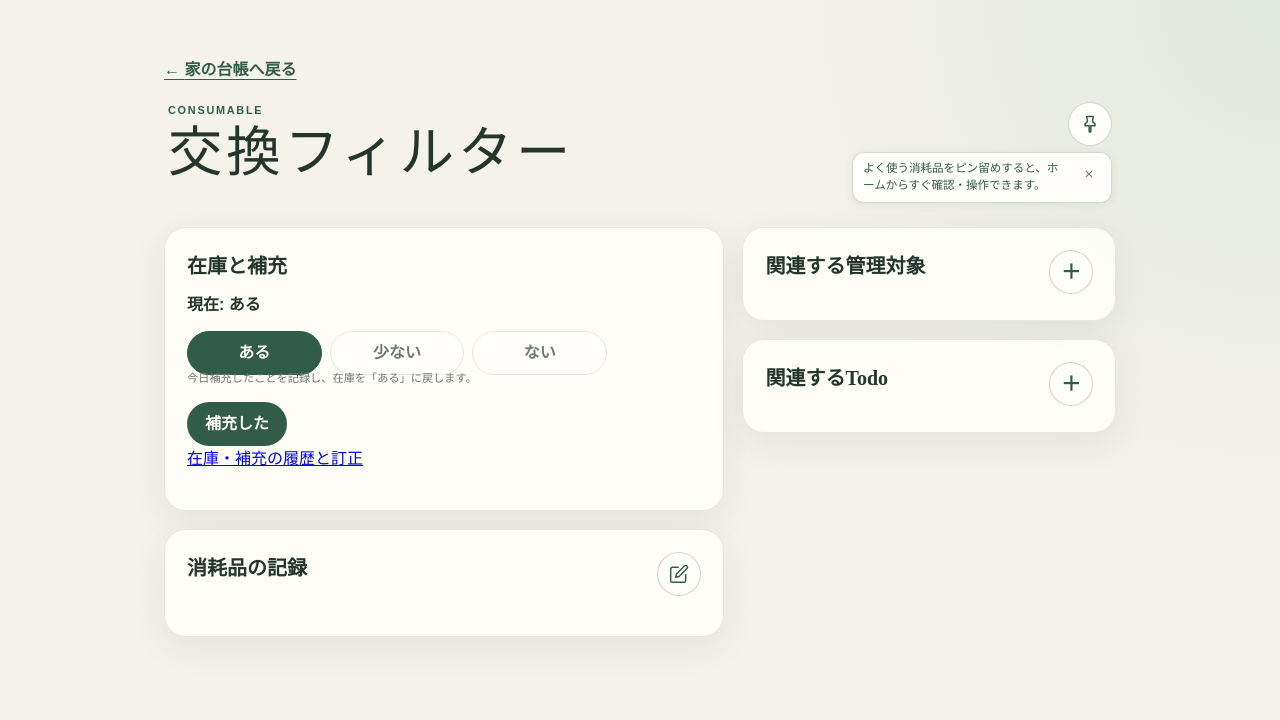
Test: 消耗品詳細の関連編集 (Issue #311) › キーボードで追加ダイアログを開閉し、閉じたら＋へ焦点を戻す
This screenshot has width=1280, height=720.
Click the button named "Todoを追加" at (1071, 384), box [1049,362,1093,406]
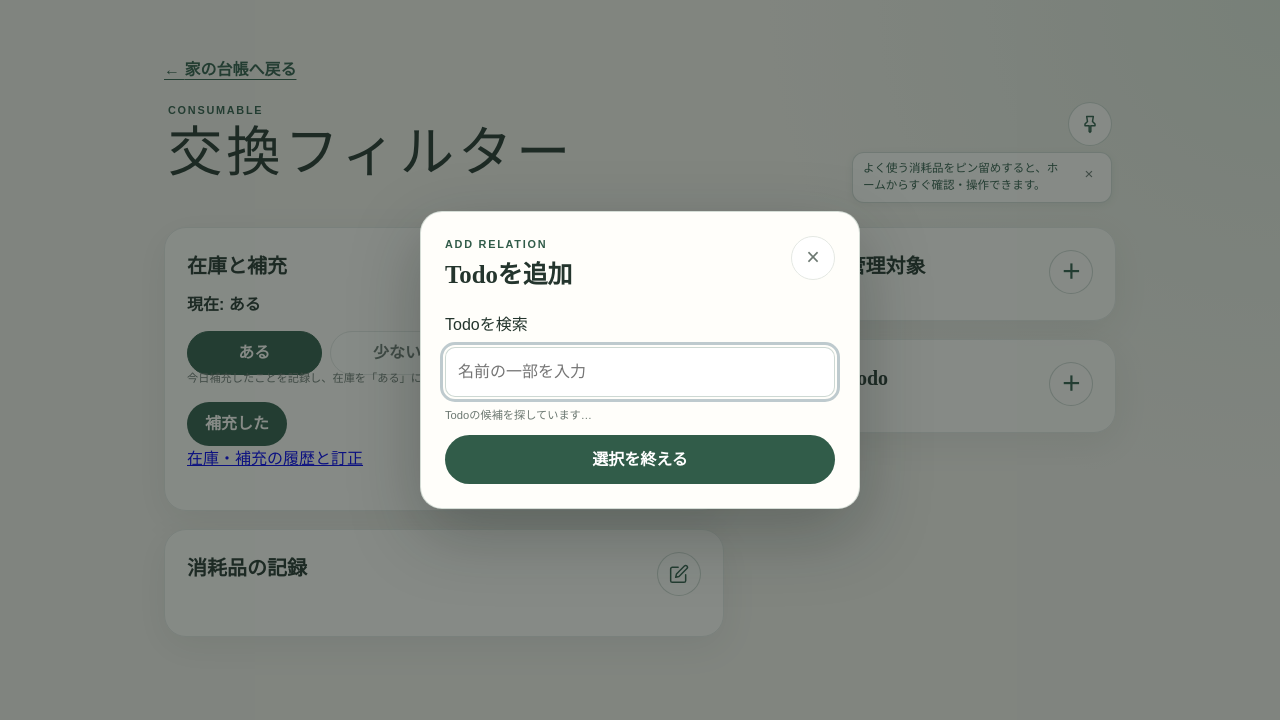
Press Escape in the dialog "Todoを追加", box [420,211,860,509]
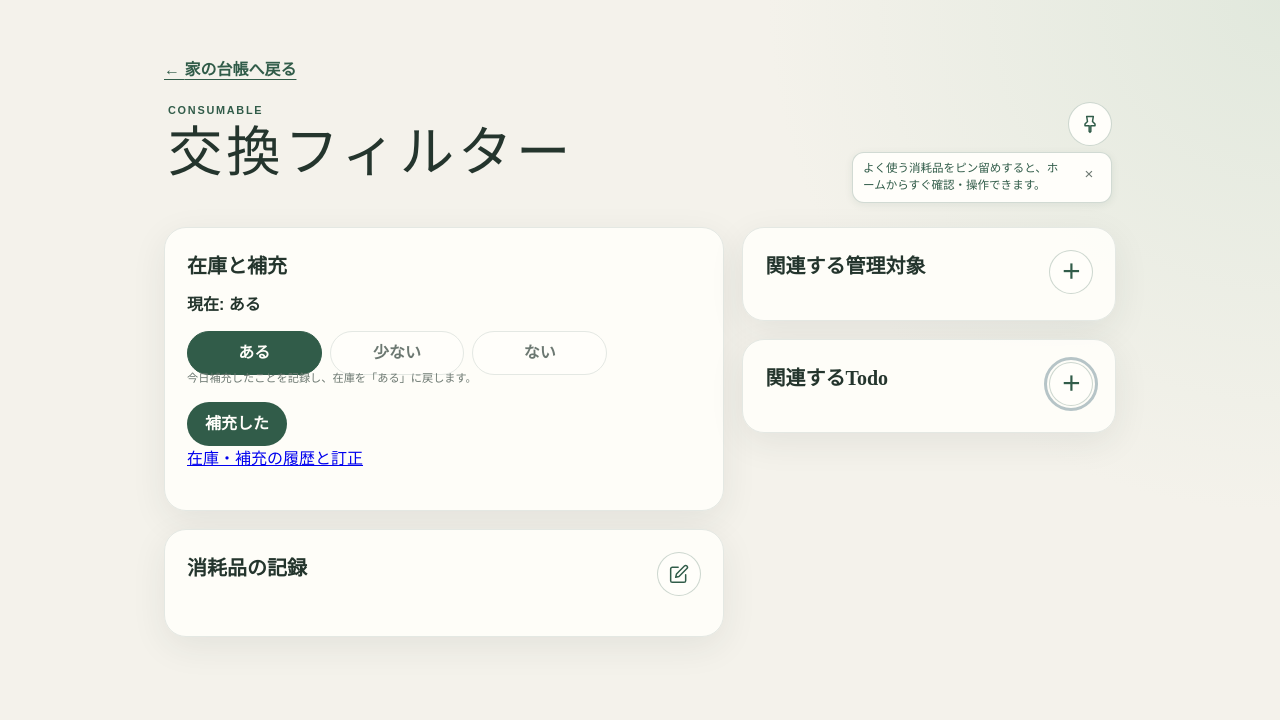
Expected: the dialog is gone
